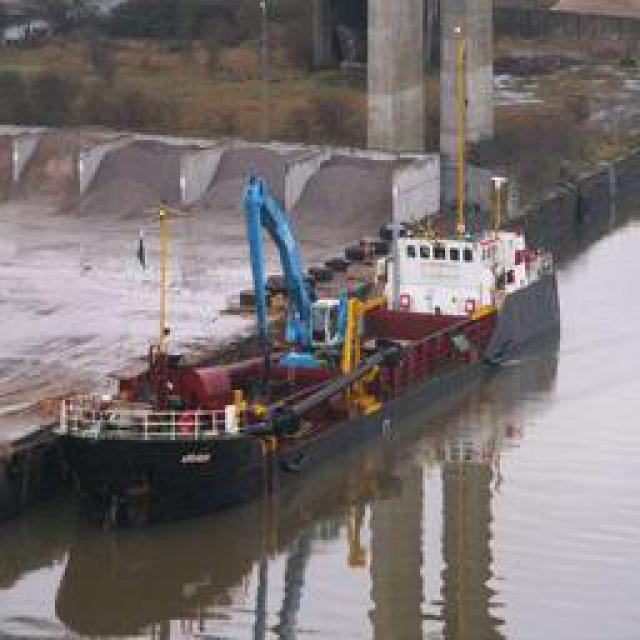Ship: (25, 187, 555, 575)
